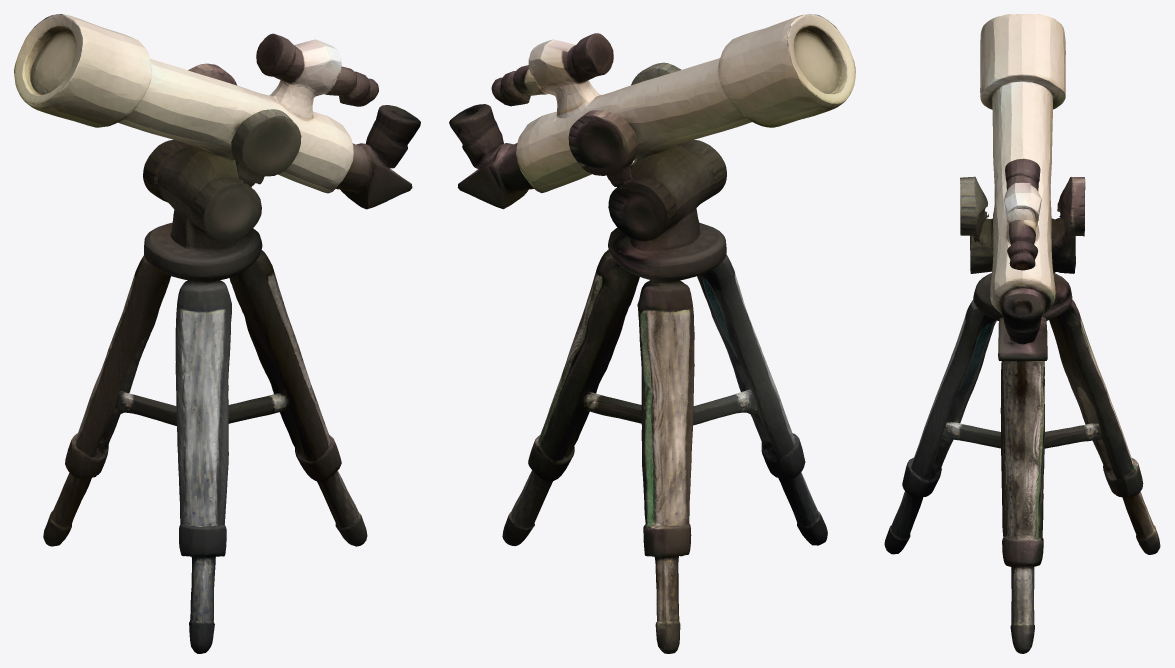
File: telescope.glb
3 renders of one model, left to right at view 1: azimuth 30°, elevation 25°; view 2: azimuth 150°, elevation 25°; view 3: azimuth 270°, elevation 25°, orthographic. The views are drawn at different scales.
Visible parts, largest first — view 1: geometry_0; view 2: geometry_0; view 3: geometry_0.
Boxes of the visible parts, bbox=[...] form: geometry_0: bbox=[14, 14, 420, 653]; geometry_0: bbox=[449, 14, 855, 653]; geometry_0: bbox=[884, 14, 1160, 653].
Size of the model in its own units: 0.6846 by 0.9979 by 0.4812.
1 material, 1 textured.
